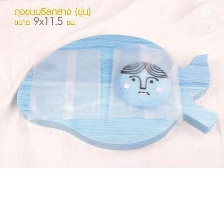snack: (103, 41, 188, 124), (21, 43, 104, 127)
